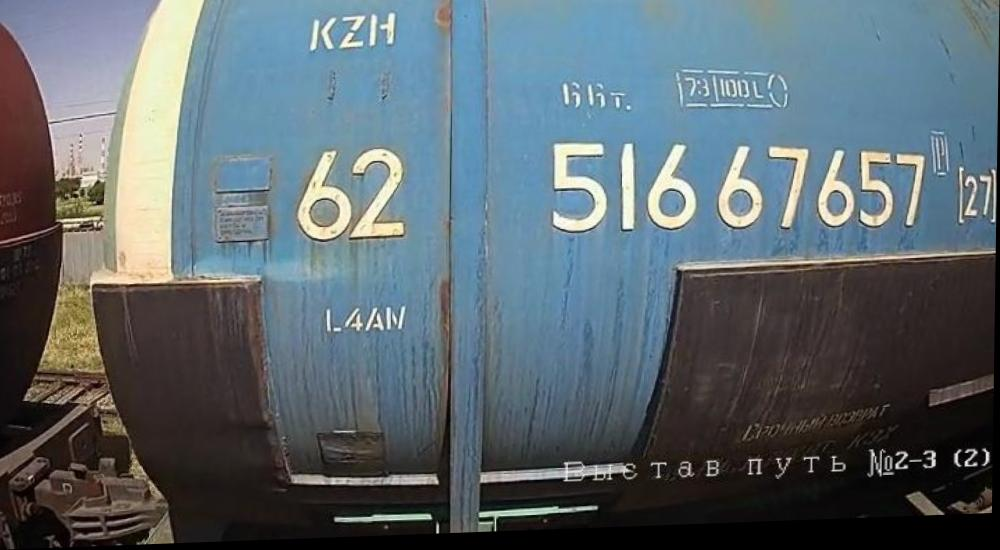Wagon-number: (542, 130, 930, 255)
